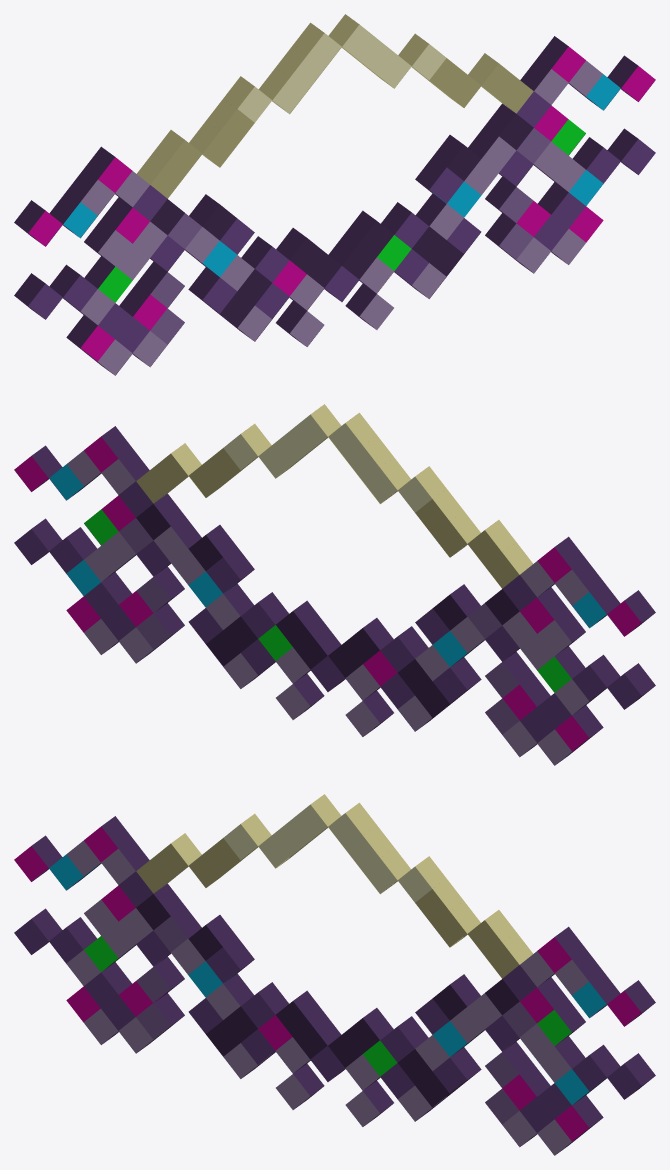
The model's file is SM_TrickBow_Year1_3.glb.
3 views of the same model, one above another, from view 1: azimuth 30°, elevation 25°; view 2: azimuth 150°, elevation 25°; view 3: azimuth 330°, elevation 25° (orthographic).
Visible parts, largest first — view 1: SM_TrickBow_Year1_3.001; view 2: SM_TrickBow_Year1_3.001; view 3: SM_TrickBow_Year1_3.001.
Part boxes in pixels (bbox=[...]): SM_TrickBow_Year1_3.001: bbox=[14, 14, 655, 375]; SM_TrickBow_Year1_3.001: bbox=[14, 404, 655, 765]; SM_TrickBow_Year1_3.001: bbox=[14, 794, 655, 1155].
Size of the model in its own units: 159 by 75.13 by 6.25.
Materials: 1 (1 with a texture image).
